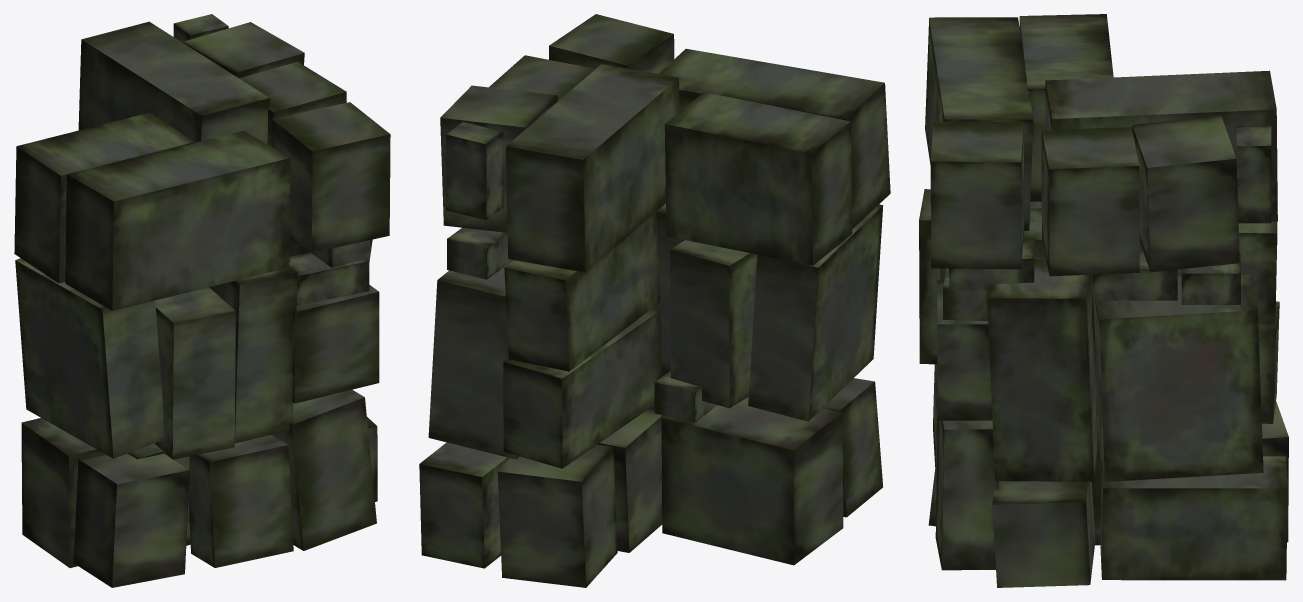
Rendered from ruin-corner-02.fbx.
3 views of the same model, side by side, from view 1: azimuth 30°, elevation 25°; view 2: azimuth 150°, elevation 25°; view 3: azimuth 270°, elevation 25° (orthographic). The views are drawn at different scales.
Parts seen in each view (by area): view 1: corner_02; view 2: corner_02; view 3: corner_02.
Boxes of the visible parts, <box> form: corner_02: <box>14,14,390,587</box>; corner_02: <box>419,14,890,587</box>; corner_02: <box>919,14,1288,587</box>.
Bounding box in the file's own units: 325 × 405 × 311.
